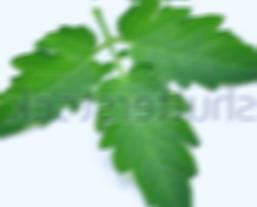Tomato leaf: (81, 49, 207, 207), (0, 0, 105, 153), (108, 0, 257, 103)
